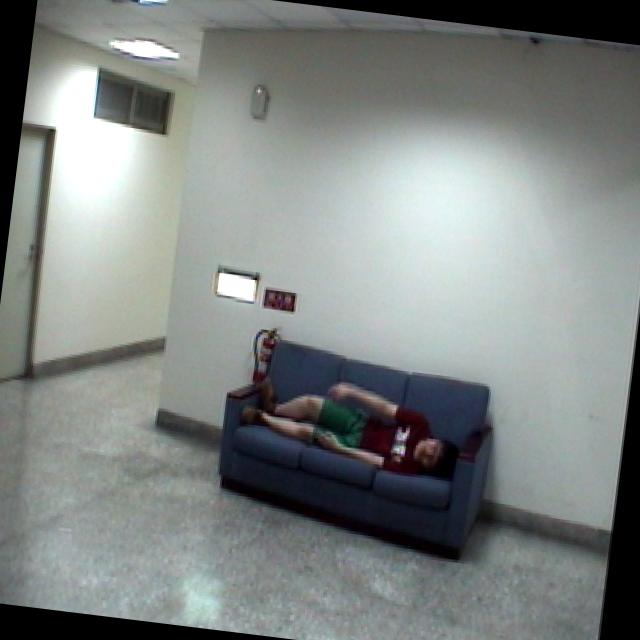lie: (233, 364, 462, 486)
